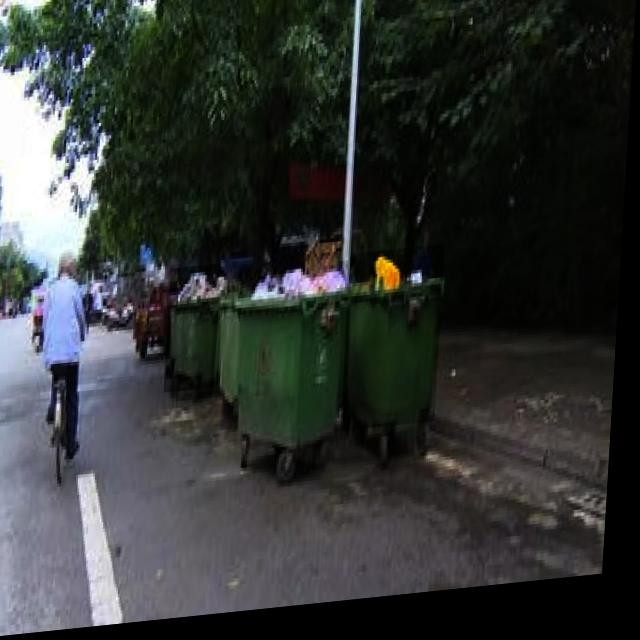overflow: (231, 265, 349, 458), (346, 254, 448, 439), (169, 269, 225, 397)
